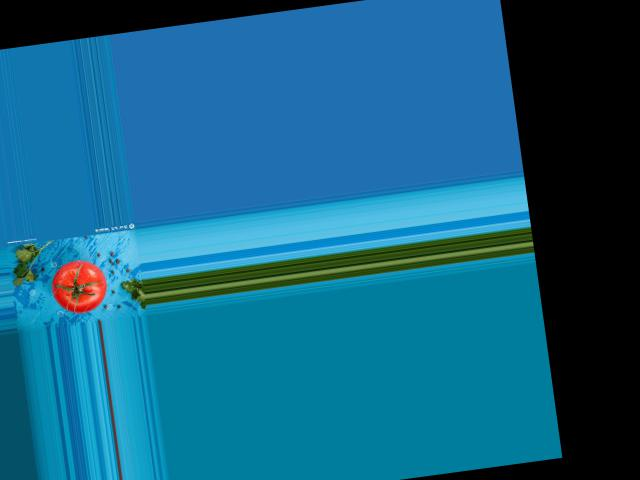tomato: (48, 256, 109, 316)
